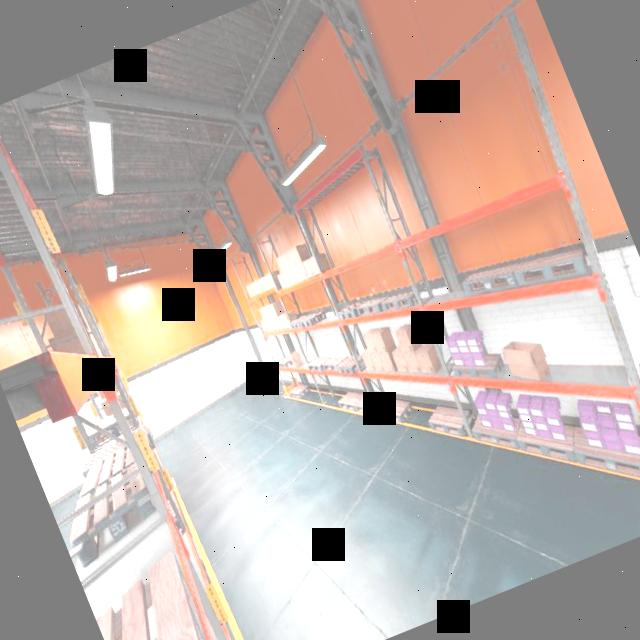box: (498, 331, 554, 391), (401, 345, 423, 375), (414, 347, 436, 376), (394, 327, 416, 355), (368, 326, 388, 353), (377, 347, 396, 374), (392, 350, 410, 373), (369, 348, 386, 372), (361, 330, 378, 353), (302, 257, 319, 277), (289, 349, 305, 369), (361, 350, 376, 371), (275, 312, 289, 329), (296, 262, 308, 280), (291, 265, 303, 283), (269, 301, 283, 316), (284, 250, 296, 266), (290, 247, 302, 263), (286, 268, 297, 285), (267, 316, 279, 331), (277, 273, 288, 289), (275, 256, 286, 271), (260, 318, 271, 333), (245, 283, 256, 297), (252, 280, 263, 294), (259, 276, 270, 290), (280, 253, 290, 268), (258, 307, 267, 320), (264, 305, 273, 318)
